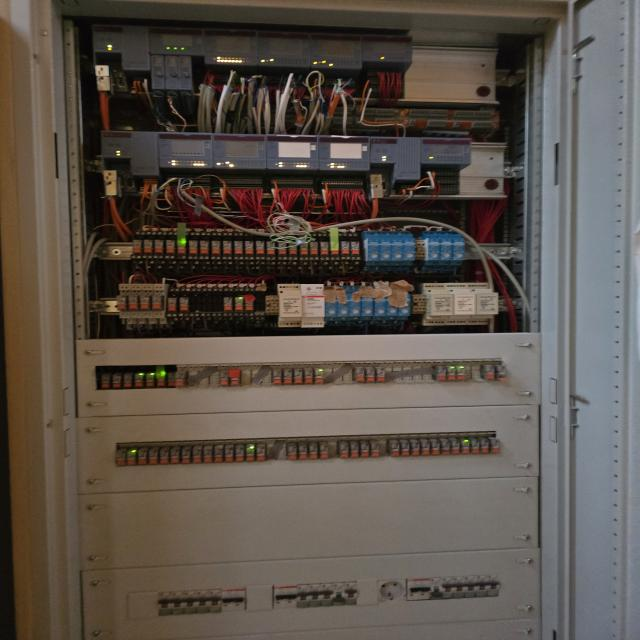Dimmer: (466, 282, 498, 325), (444, 283, 476, 325), (423, 283, 453, 325), (277, 284, 302, 327), (301, 284, 325, 328), (364, 231, 379, 265), (424, 230, 438, 266), (374, 285, 388, 321), (348, 287, 362, 320), (391, 231, 404, 266), (379, 231, 392, 266), (337, 286, 350, 321), (452, 233, 465, 266), (440, 231, 452, 266), (361, 285, 373, 320), (326, 286, 337, 322), (404, 231, 415, 266), (399, 287, 410, 320), (389, 286, 398, 321)
Leitungsschutzschalter: (157, 592, 171, 616), (344, 582, 358, 606), (197, 591, 210, 614), (184, 591, 197, 613), (172, 592, 184, 615), (210, 590, 222, 613), (298, 585, 310, 608), (430, 577, 442, 600), (407, 579, 420, 600), (222, 590, 234, 612), (234, 589, 246, 611), (274, 586, 286, 608), (442, 577, 454, 599), (454, 576, 466, 598), (488, 575, 500, 597), (310, 584, 321, 607), (333, 583, 344, 606), (476, 576, 488, 597), (287, 586, 297, 608), (322, 584, 332, 606), (420, 578, 430, 600), (466, 576, 476, 598)
Relais: (482, 365, 494, 381), (175, 372, 187, 387), (434, 366, 446, 381), (140, 295, 151, 310), (151, 295, 162, 310), (230, 370, 240, 386), (375, 366, 385, 382), (116, 450, 126, 466), (160, 449, 170, 465), (235, 446, 245, 462), (177, 240, 188, 254), (116, 296, 127, 310), (294, 368, 303, 385), (247, 446, 256, 463), (200, 240, 210, 255), (134, 373, 144, 388), (157, 373, 167, 388), (456, 365, 466, 380), (181, 449, 191, 464), (287, 445, 297, 460), (298, 445, 308, 460), (319, 444, 329, 459), (480, 439, 490, 454), (273, 368, 282, 384), (283, 368, 292, 384), (314, 368, 323, 384), (138, 450, 147, 466), (225, 447, 234, 463), (211, 241, 222, 254), (244, 240, 254, 254), (128, 295, 138, 309), (179, 297, 189, 311), (112, 374, 122, 388), (355, 368, 365, 382), (496, 366, 506, 380), (148, 450, 158, 464), (192, 449, 202, 463), (420, 442, 430, 456), (461, 440, 471, 454), (490, 439, 500, 453), (133, 239, 142, 254), (146, 373, 155, 388), (220, 370, 229, 385), (127, 450, 136, 465), (214, 448, 223, 463), (257, 446, 266, 461), (391, 442, 400, 457), (401, 442, 410, 457), (188, 241, 198, 254), (298, 242, 308, 255), (340, 241, 350, 254), (339, 444, 349, 457), (470, 440, 480, 453), (305, 368, 313, 384), (172, 449, 180, 465), (234, 240, 243, 254), (256, 241, 265, 255), (266, 241, 275, 255), (278, 241, 287, 255), (310, 241, 319, 255), (330, 241, 339, 255), (168, 297, 177, 311), (235, 298, 244, 312), (101, 374, 110, 388), (124, 374, 133, 388), (366, 368, 375, 382), (204, 449, 213, 463), (350, 444, 359, 458), (371, 443, 380, 457), (431, 441, 440, 455), (441, 441, 450, 455), (451, 440, 460, 454), (361, 443, 369, 458), (288, 241, 297, 254), (411, 442, 420, 455), (224, 297, 232, 311), (245, 297, 253, 311), (447, 366, 455, 380), (309, 444, 317, 458), (154, 240, 163, 252), (223, 241, 232, 253), (144, 240, 152, 253), (166, 240, 174, 253), (168, 373, 175, 387), (352, 241, 359, 254), (321, 242, 328, 254)
SPS-System -Steuerungskomponente-: (202, 28, 258, 66), (158, 131, 213, 169), (257, 29, 310, 67), (310, 34, 363, 70), (213, 133, 266, 169), (266, 134, 319, 169), (148, 23, 202, 56), (319, 135, 369, 170), (91, 24, 148, 54), (101, 130, 157, 159), (370, 136, 421, 162), (363, 34, 412, 61), (422, 138, 472, 164)
Verbinder: (412, 294, 426, 314), (265, 296, 279, 315), (415, 240, 425, 260)
